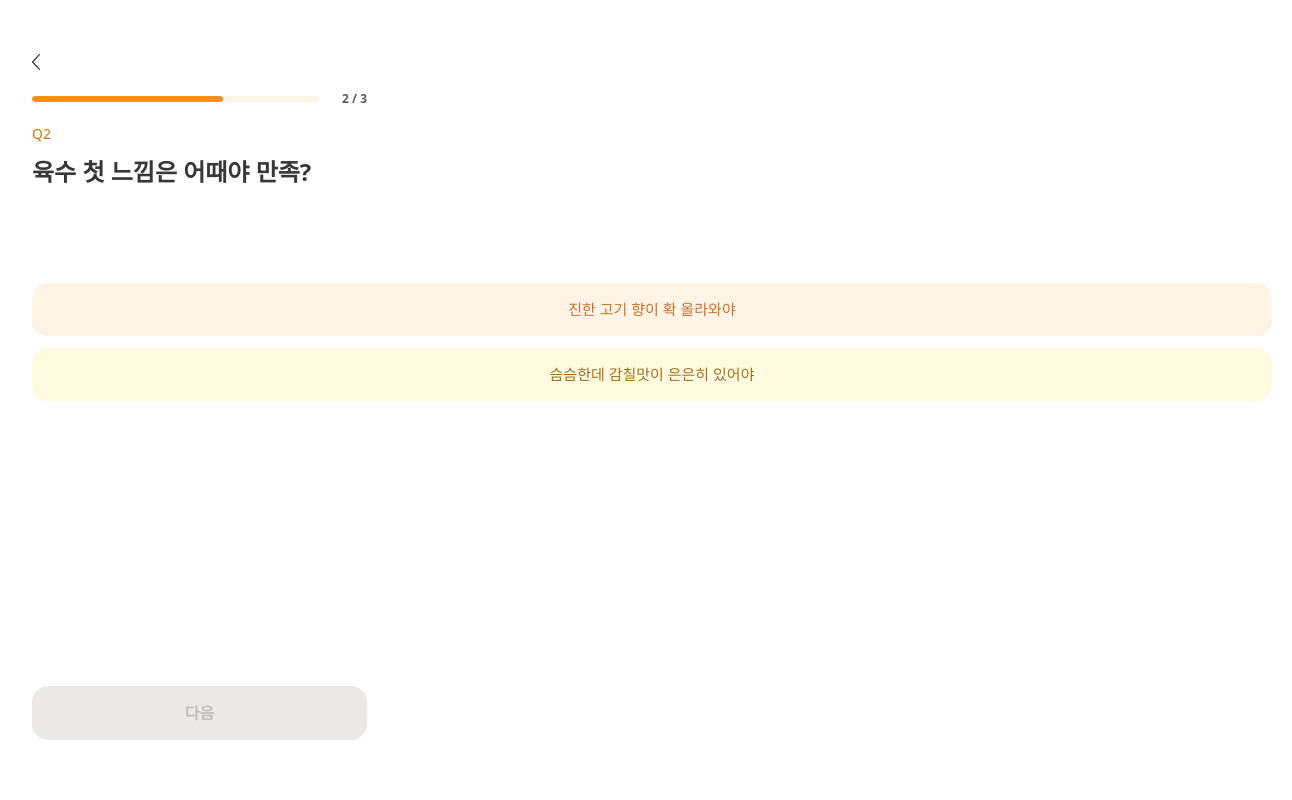
Scenario: 경험자 문항 플로우 › 옵션을 선택하면 다음 버튼이 활성화된다
Click the button "진한 고기 향이 확 올라와야" at (652, 310), box [32, 283, 1272, 336]
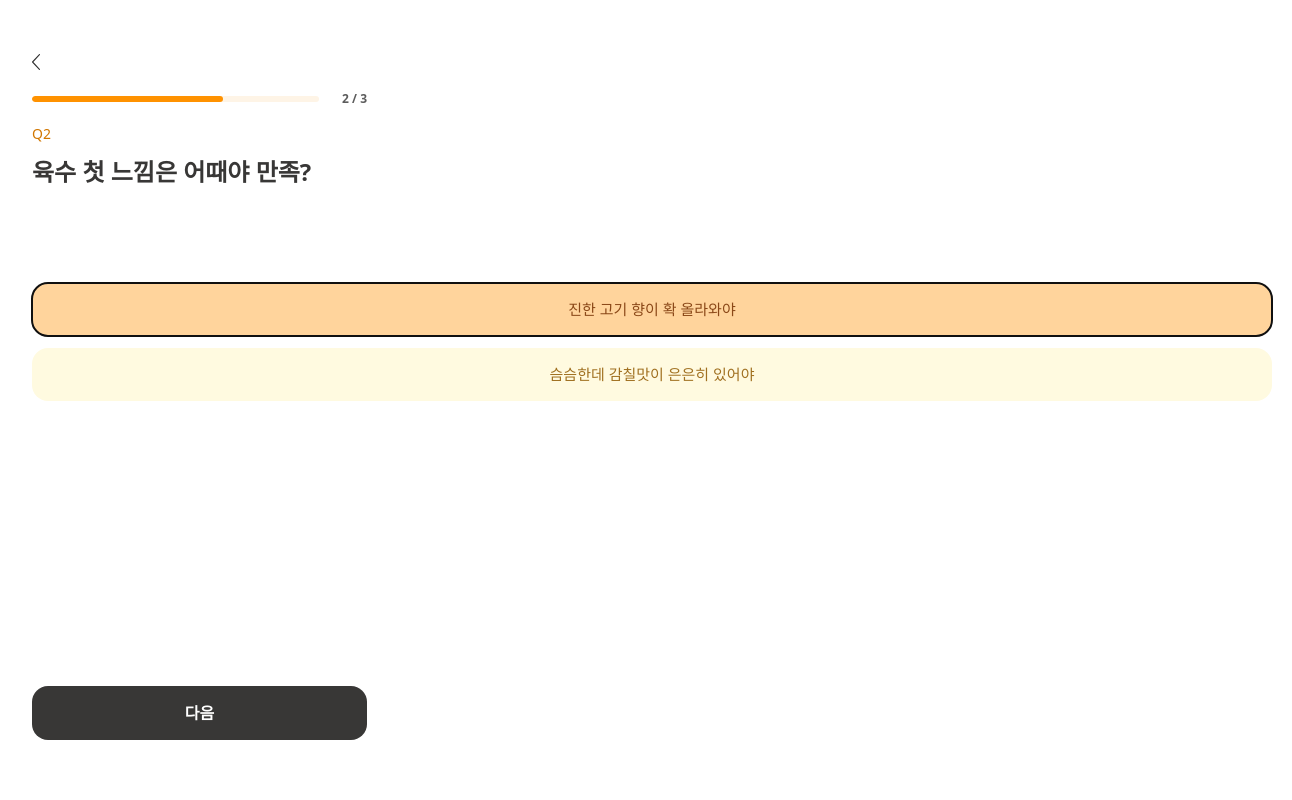
Expected: the button "다음" is enabled, [32, 686, 367, 740]
